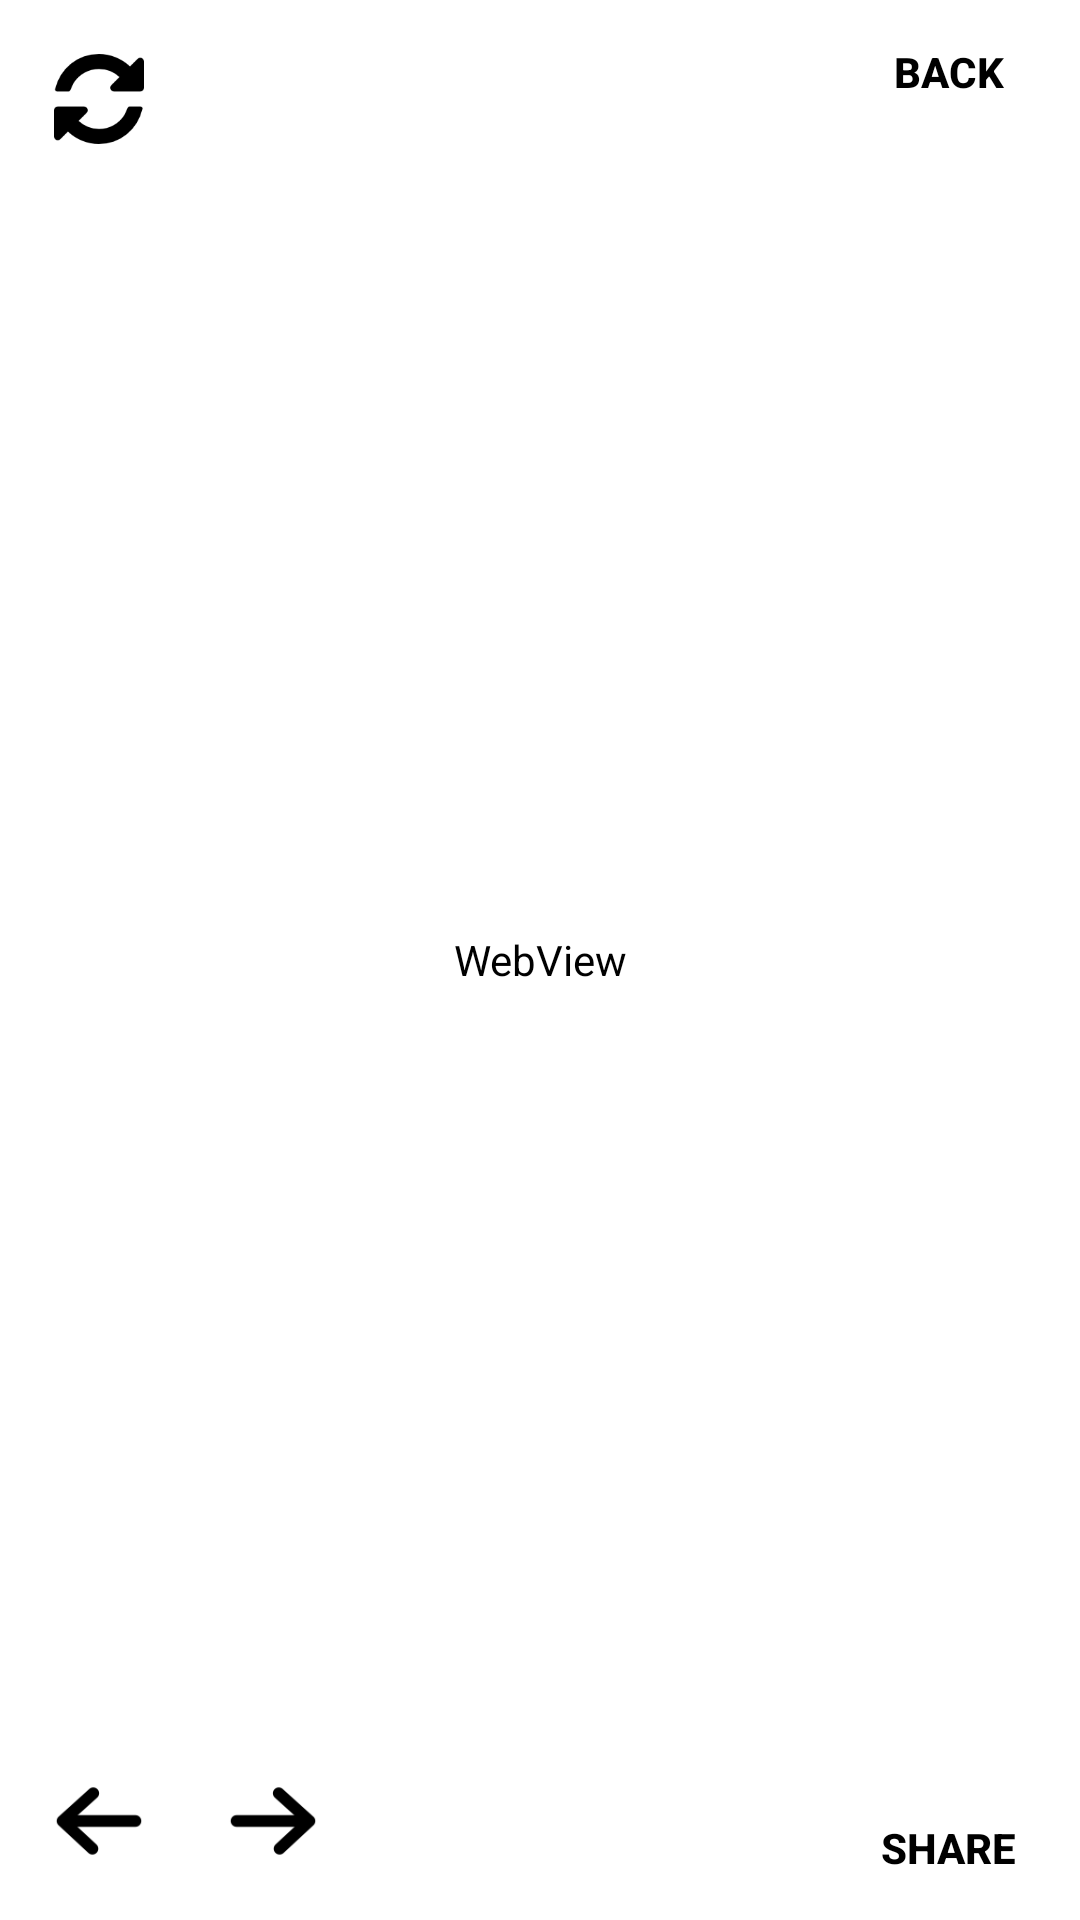

Named icons in this screenshot (1080x1920) and their bounding boxes, bbox=[x1, y1, x2, y2]:
refresh: bbox=[54, 54, 144, 144]
